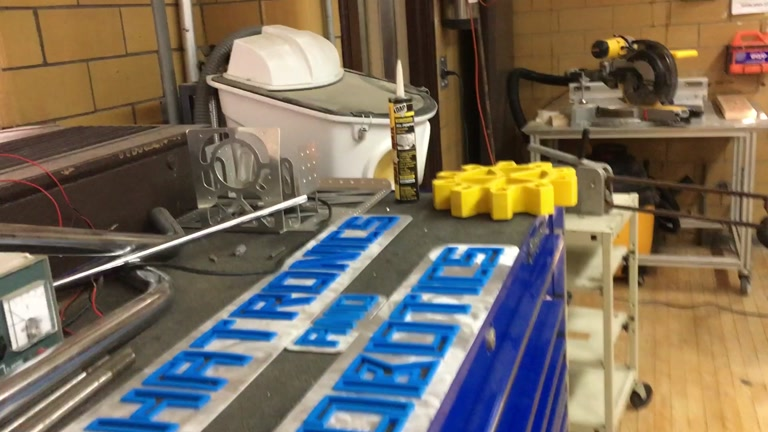gear: (432, 161, 576, 221)
